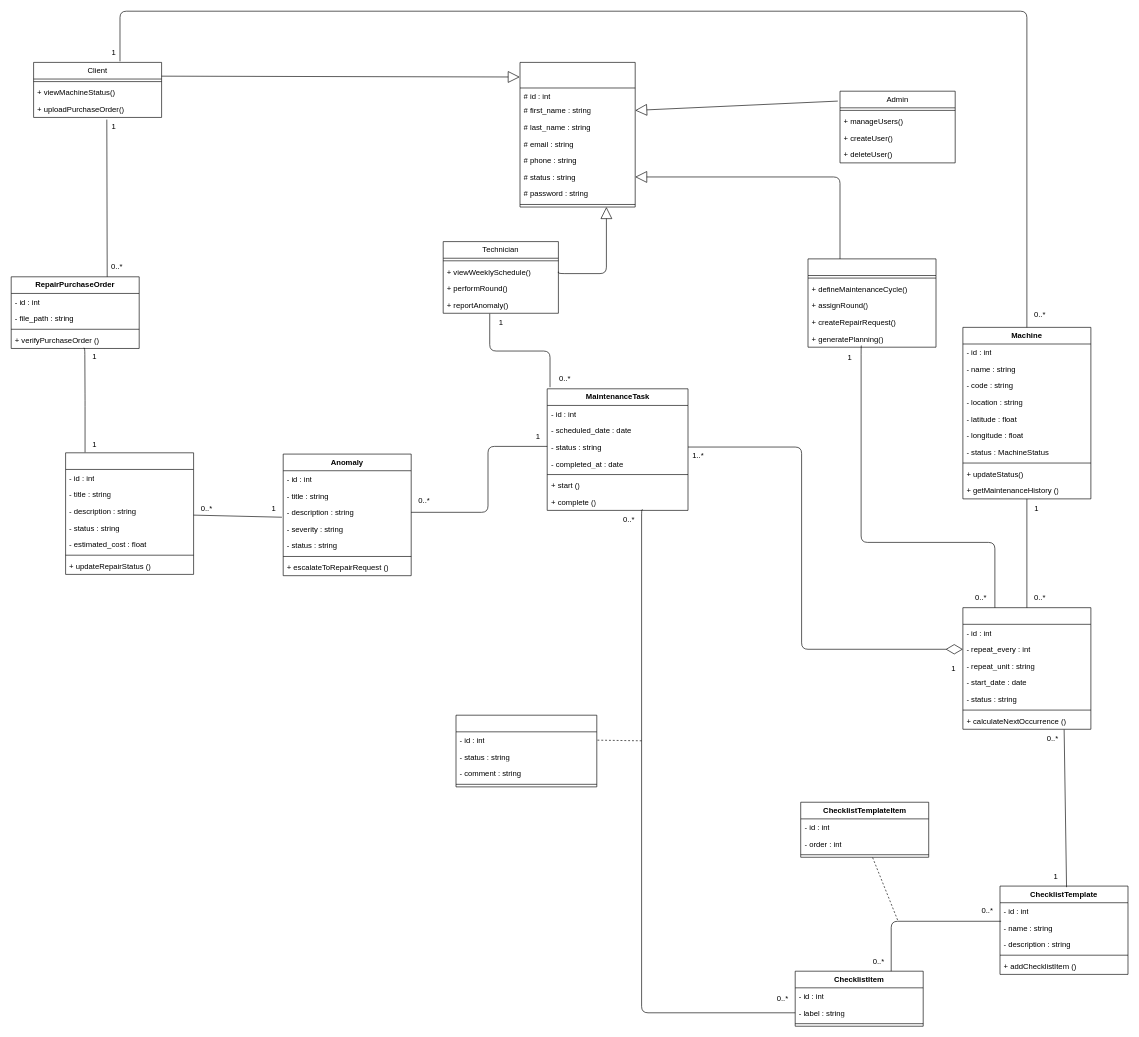
Some shapes in this 1139 by 1037 pixel diagram are drawn without their labels. Here are the shapes that lost their labels. From the top down, the box of each, then its label:
(519, 62, 635, 207): <<abstract>> User
(807, 258, 936, 347): ChiefTechnician
(65, 452, 194, 574): RepairRequest
(962, 607, 1091, 729): MaintenancePlan
(455, 715, 597, 787): MaintenanceTaskCheckItem
